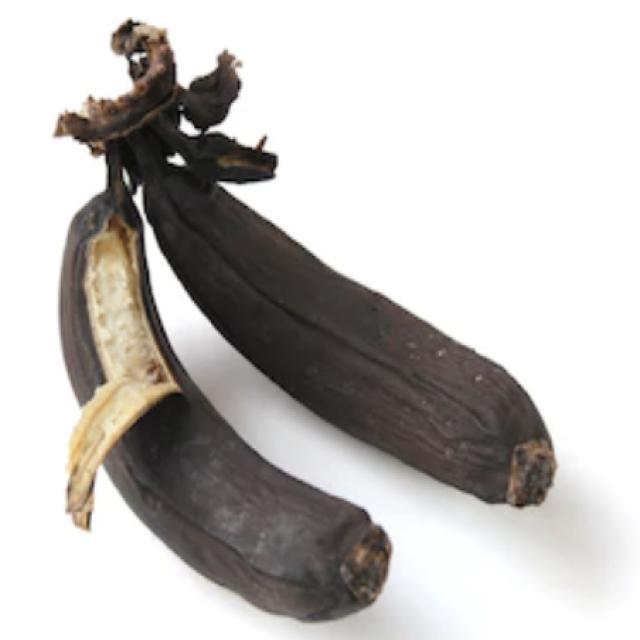banana: (129, 127, 556, 505), (61, 157, 390, 619)
